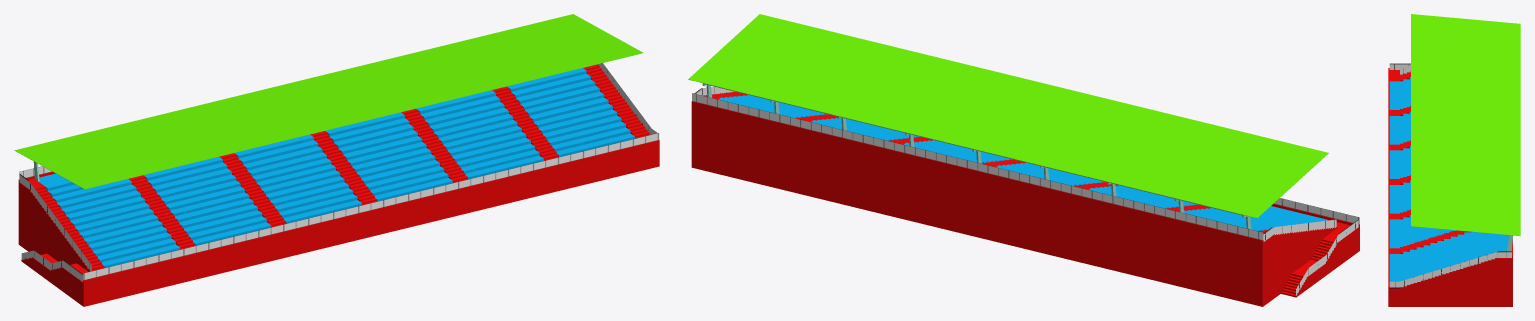
File: Tribune_New_2.fbx
3 renders of one model, left to right at view 1: azimuth 30°, elevation 25°; view 2: azimuth 150°, elevation 25°; view 3: azimuth 270°, elevation 25°, orthographic. The views are drawn at different scales.
Visible parts, largest first — view 1: Tribune_New_2; view 2: Tribune_New_2; view 3: Tribune_New_2.
Boxes of the visible parts, <box> form: Tribune_New_2: <box>14,14,659,306</box>; Tribune_New_2: <box>688,14,1359,306</box>; Tribune_New_2: <box>1388,14,1520,306</box>.
Size of the model in its own units: 7600 by 1301 by 1944.
